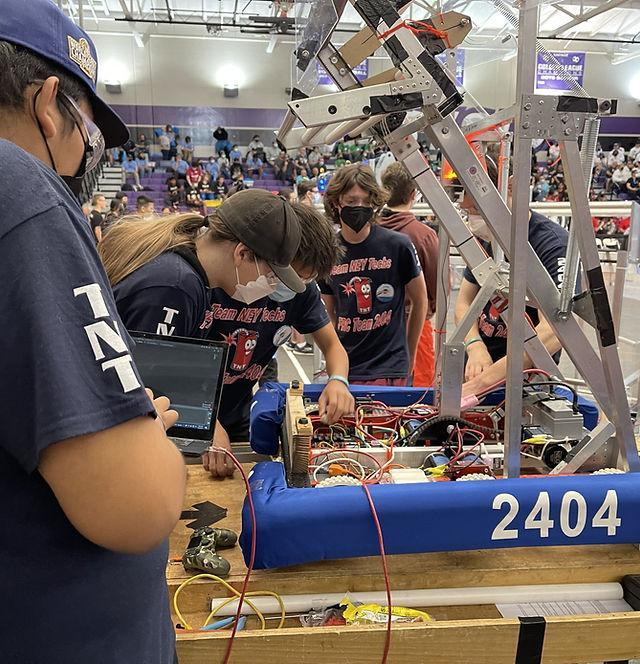robot: (223, 0, 640, 587)
